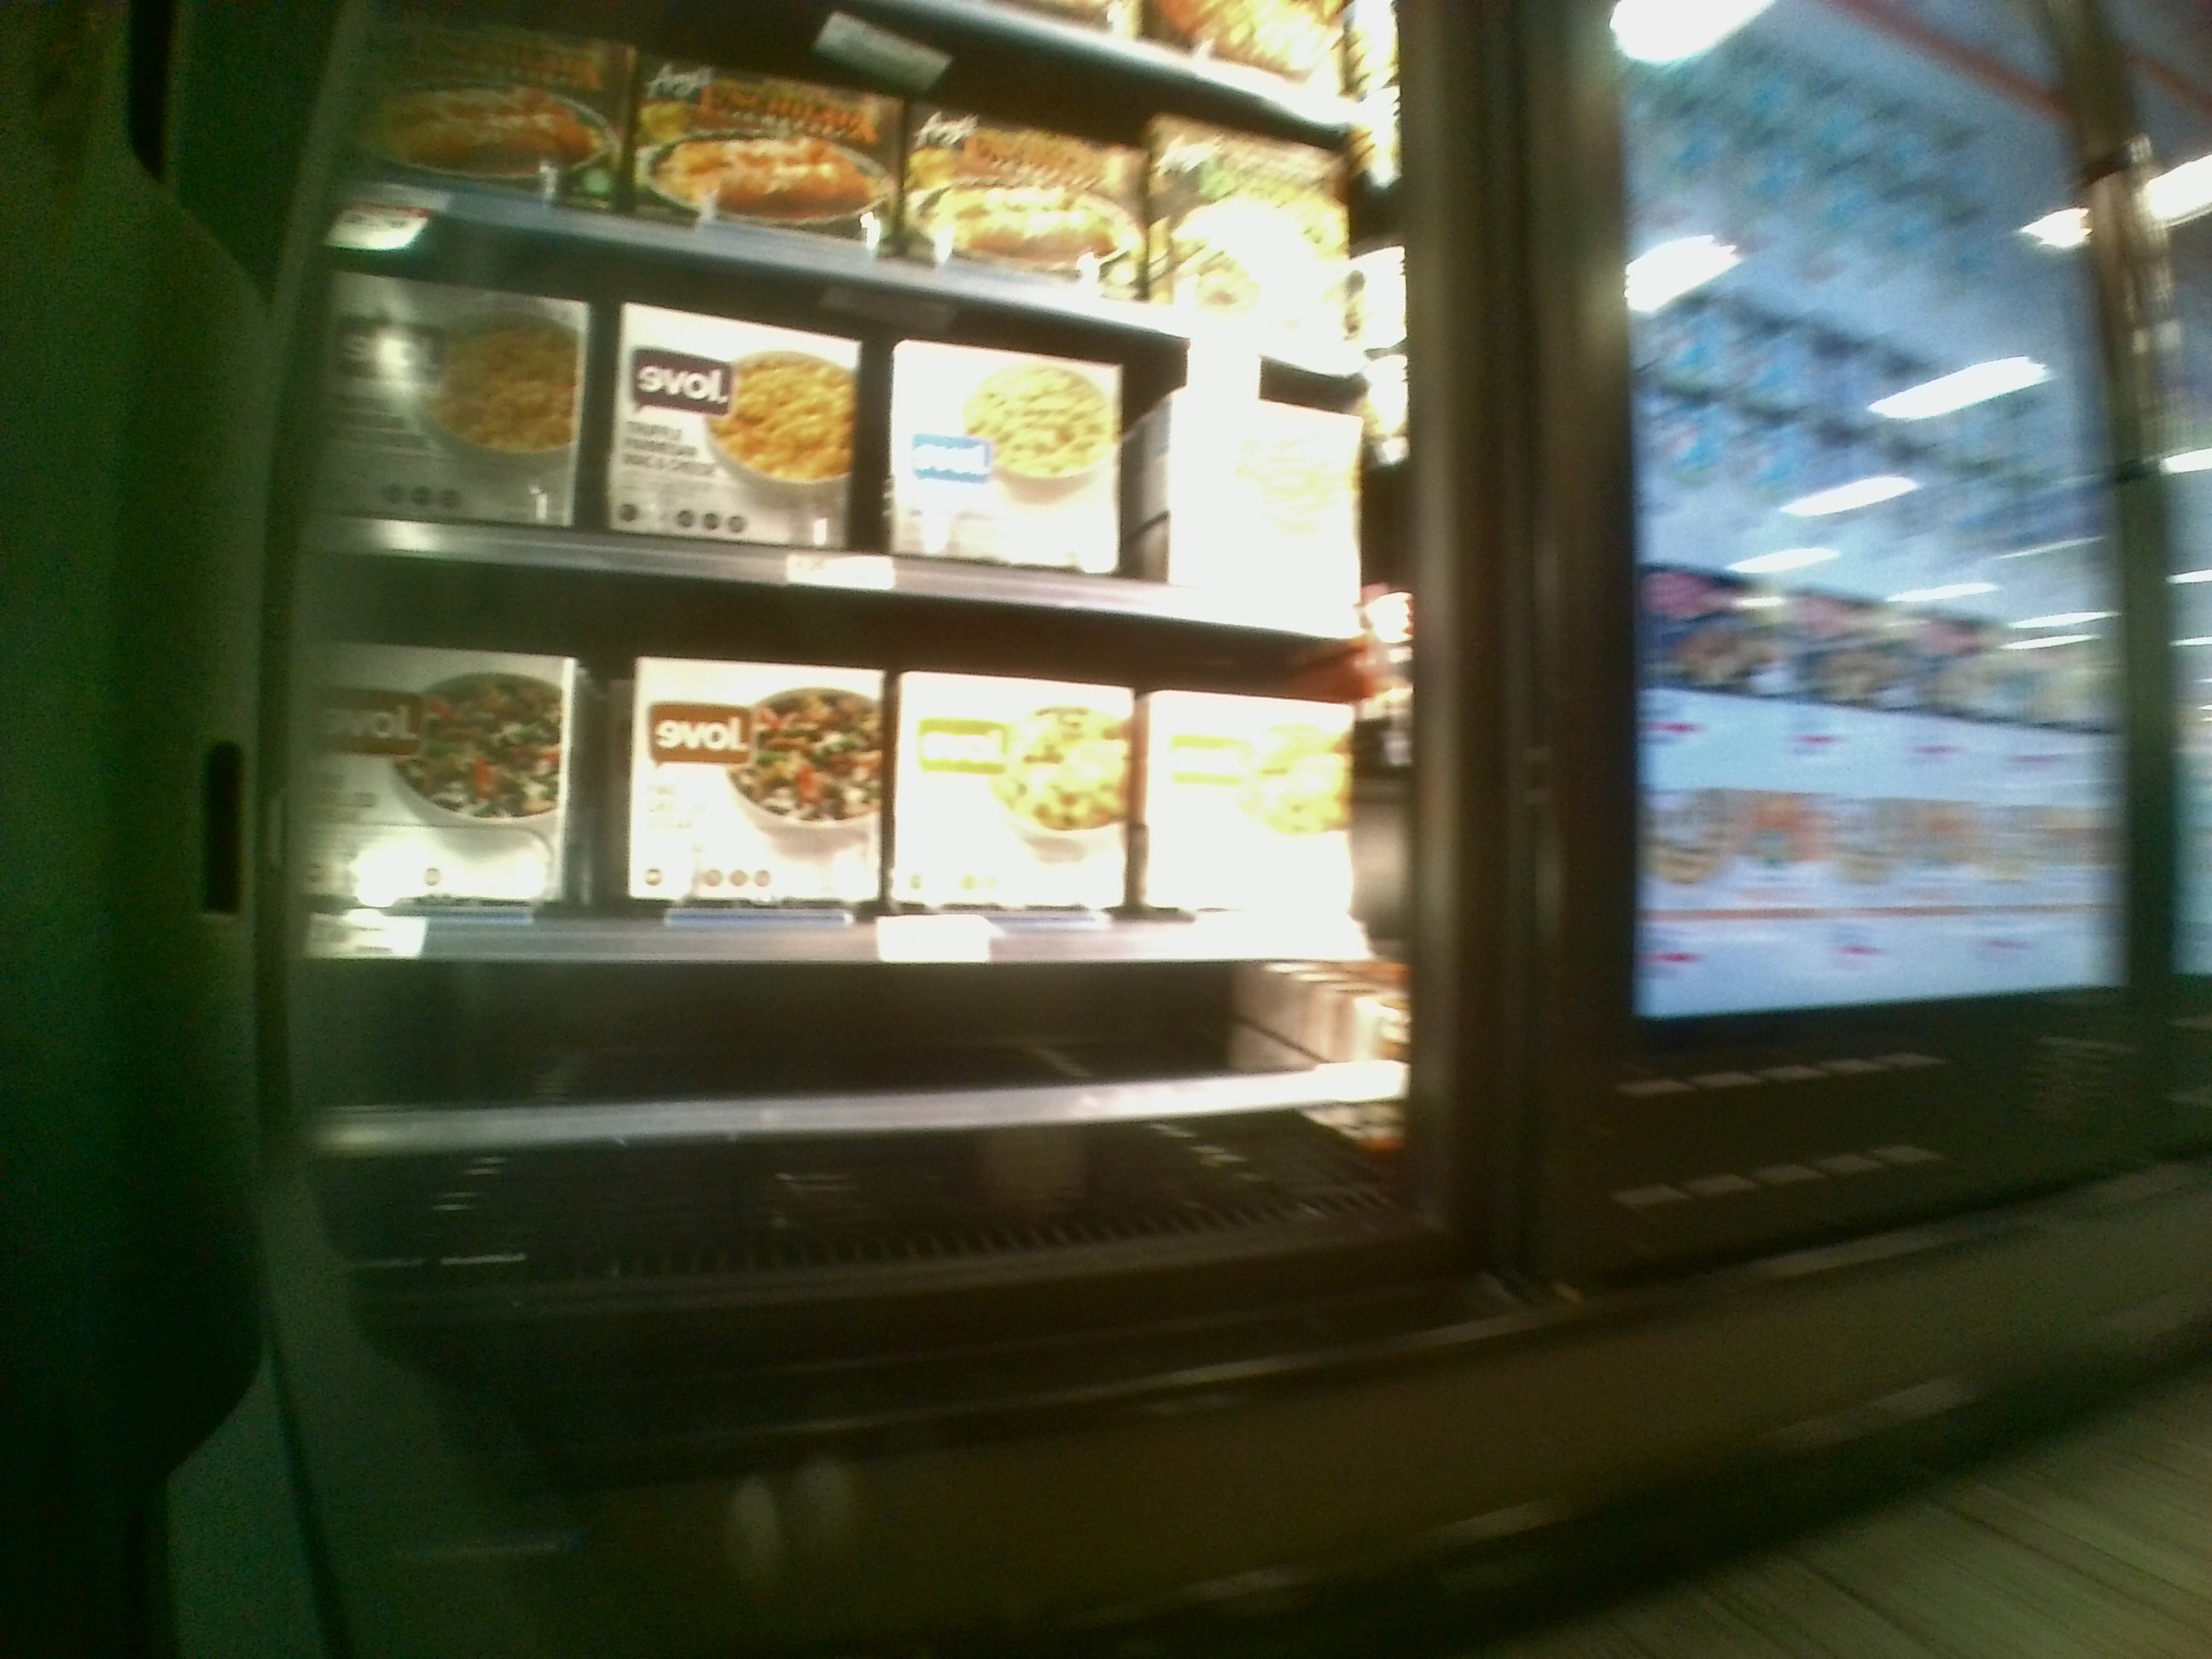shelf: (301, 617, 1402, 962), (320, 957, 1400, 1283), (307, 305, 1397, 619)
